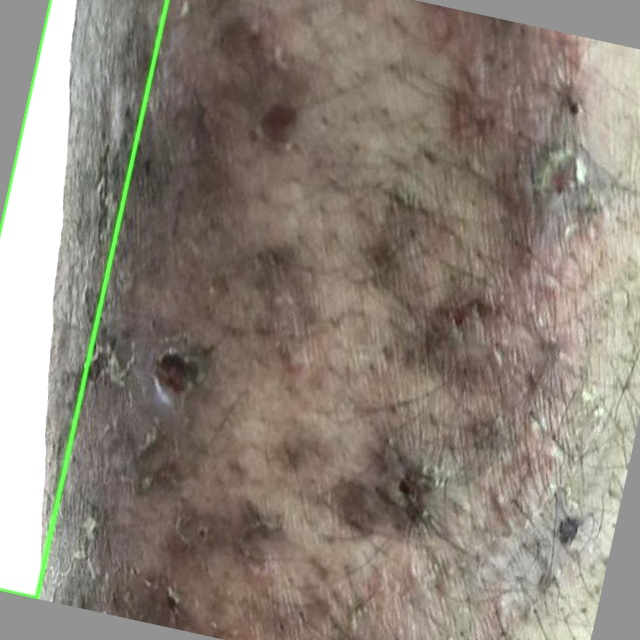Tinea Corporis: (0, 0, 167, 597)
